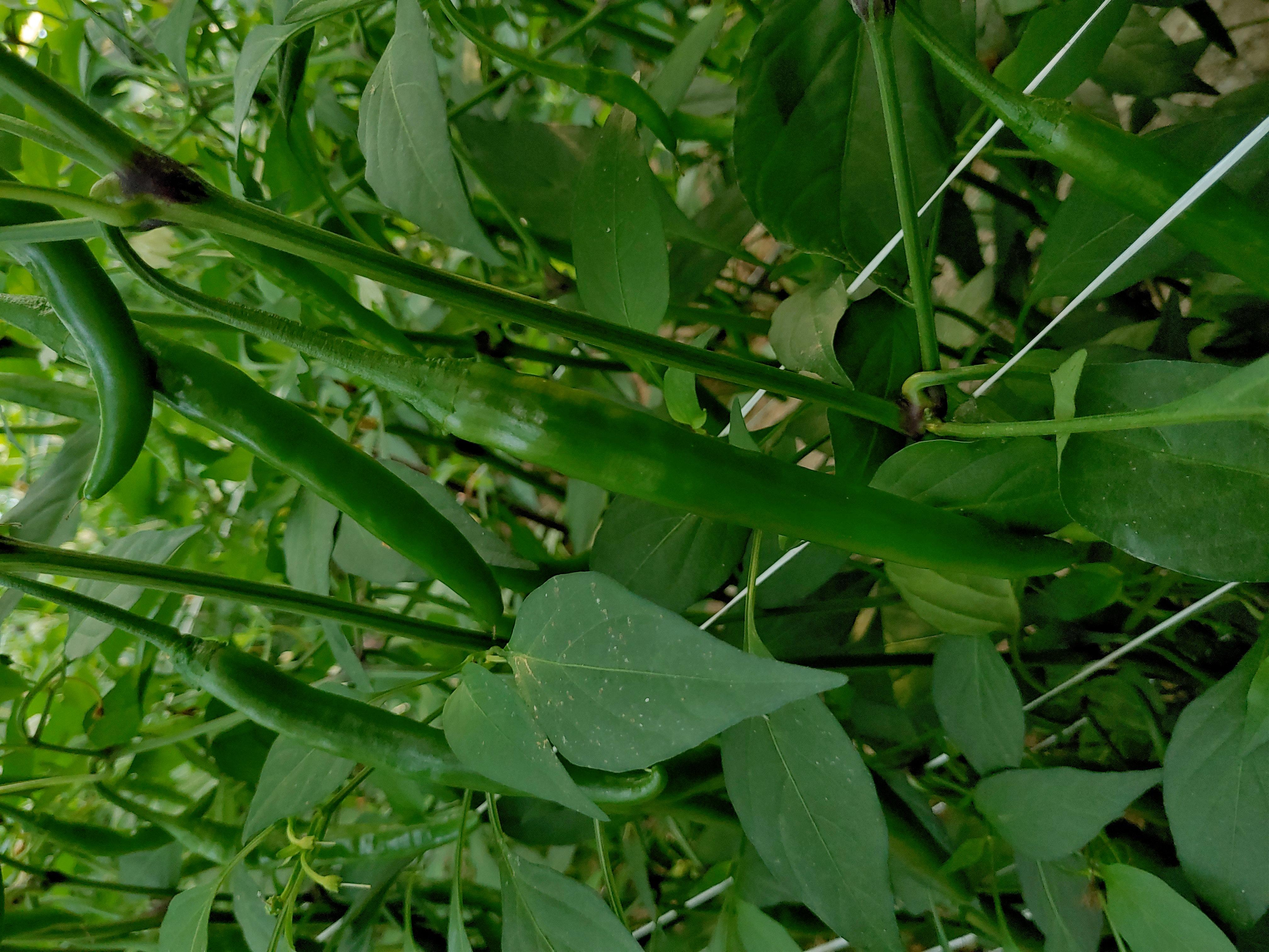Buah Cabai Sehat: (387, 345, 1087, 586), (33, 298, 509, 631), (170, 636, 666, 811), (0, 156, 161, 508)
Daun Cabai Sehat: (502, 567, 856, 779), (716, 640, 904, 952), (354, 0, 512, 276)
